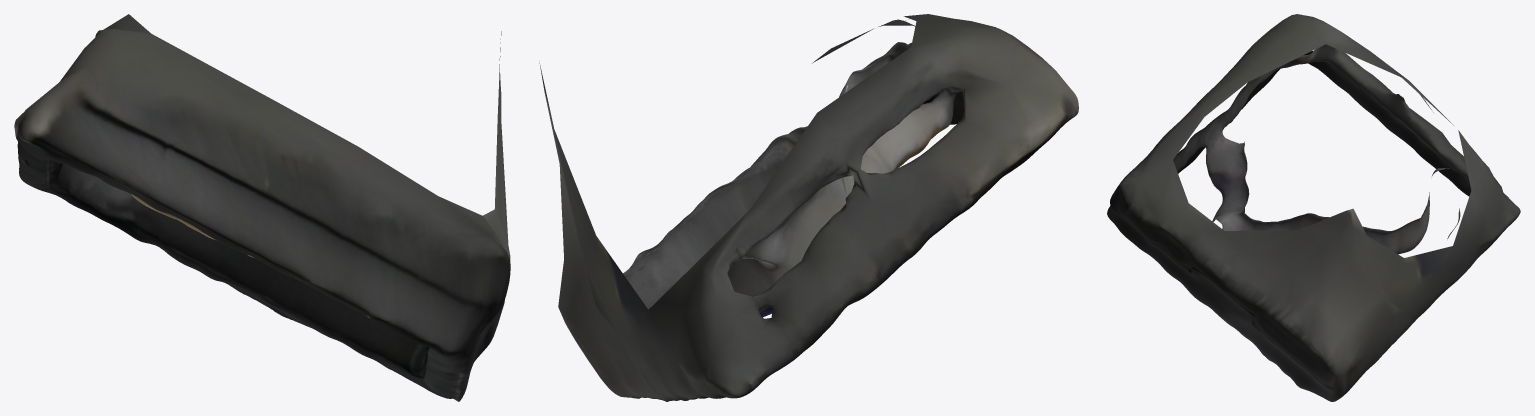
3 renders of one model, left to right at view 1: azimuth 30°, elevation 25°; view 2: azimuth 150°, elevation 25°; view 3: azimuth 270°, elevation 25°, orthographic. The views are drawn at different scales.
Bounding box in the file's own units: 0.7748 × 0.643 × 0.8665.
1 material, 1 textured.
